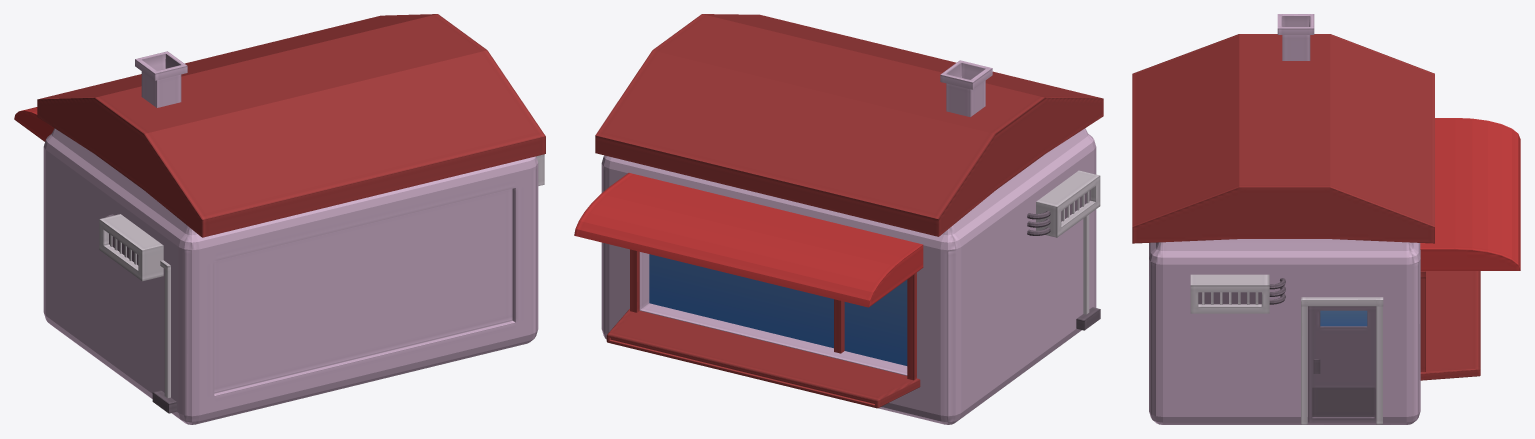
File: restaurant.glb
3 views of the same model, side by side, from view 1: azimuth 30°, elevation 25°; view 2: azimuth 150°, elevation 25°; view 3: azimuth 270°, elevation 25° (orthographic). The views are drawn at different scales.
Visible parts, largest first — view 1: Node; view 2: Node; view 3: Node.
Boxes of the visible parts, x1,y1,x2,y2 form: Node: [14, 14, 545, 424]; Node: [574, 14, 1103, 424]; Node: [1132, 14, 1520, 424].
Bounding box in the file's own units: 583 × 412 × 531.
1 material, 1 textured.
